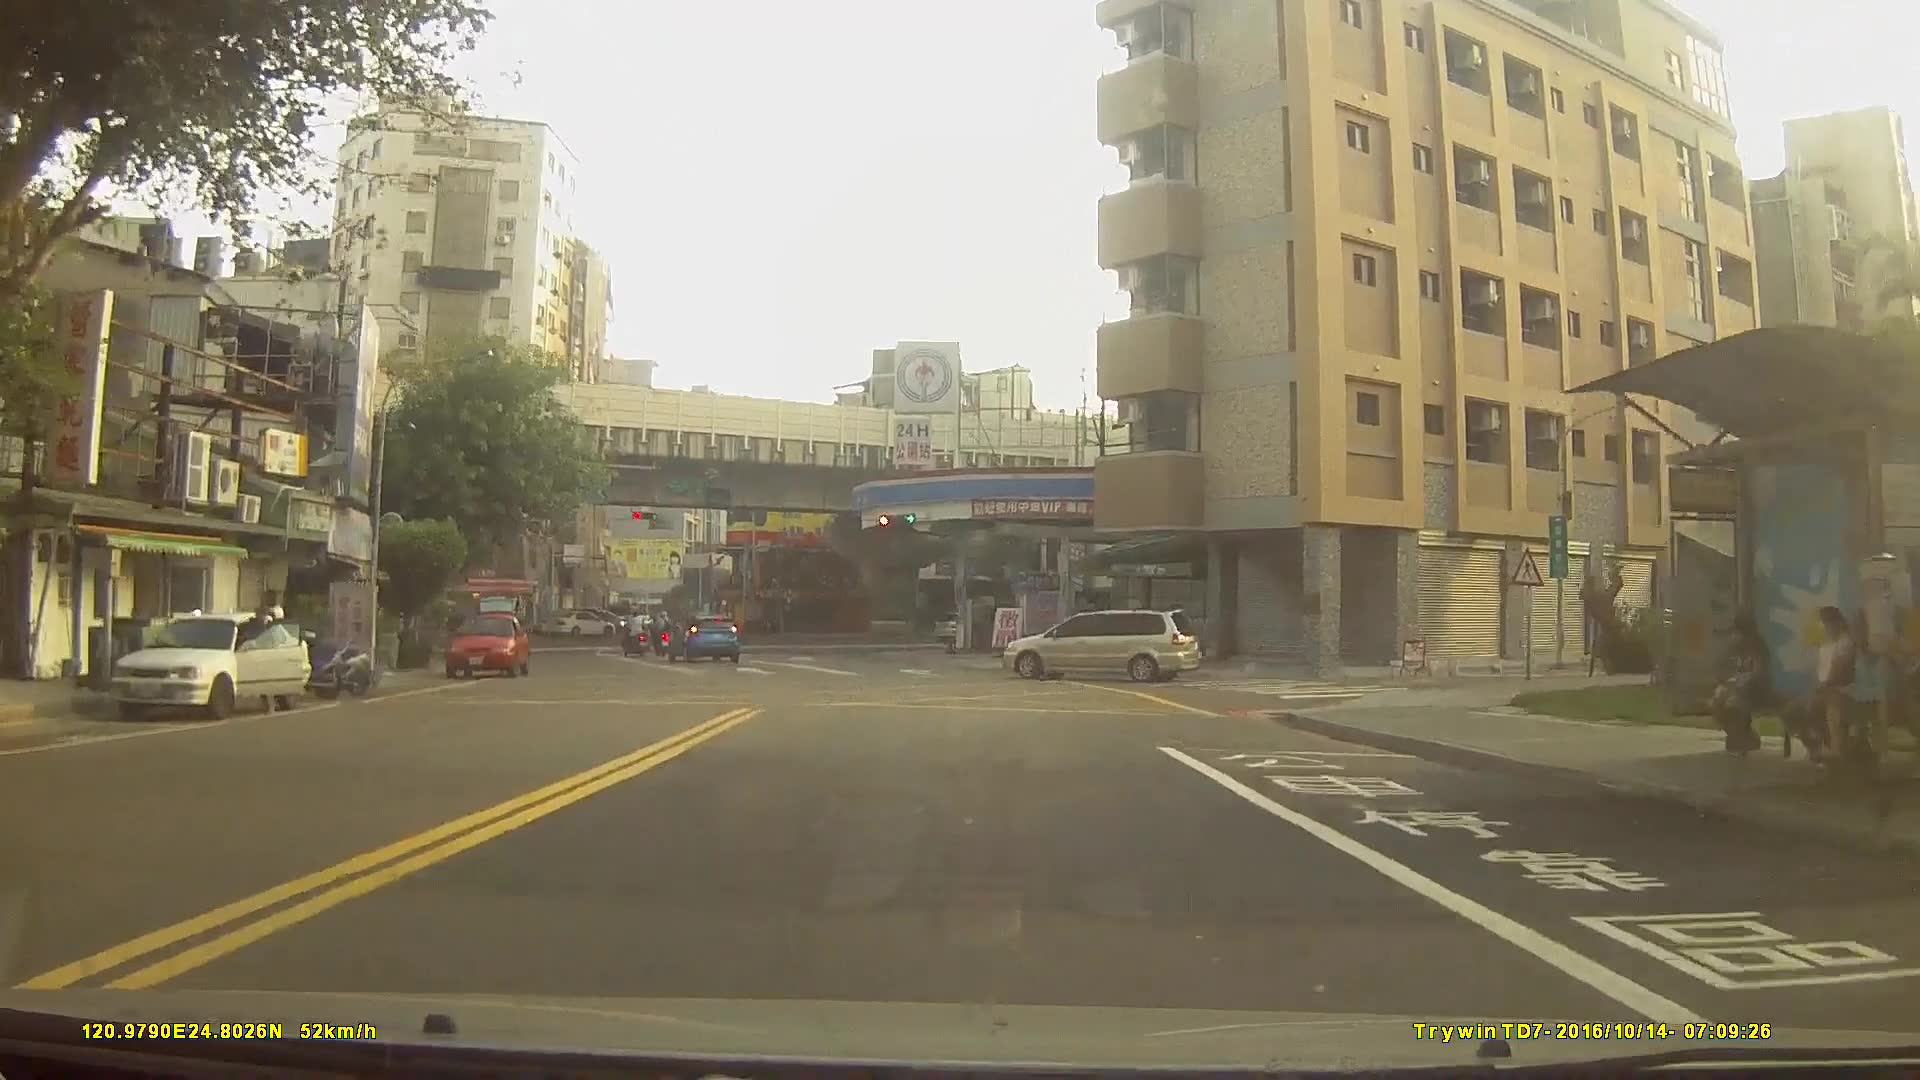pedestrian: (1806, 598, 1865, 780), (1710, 619, 1771, 761)
rider: (618, 611, 648, 662)
vehicle: (110, 611, 313, 723), (1000, 607, 1203, 679), (445, 612, 533, 678), (663, 614, 740, 662), (543, 608, 615, 639), (533, 607, 600, 638)
